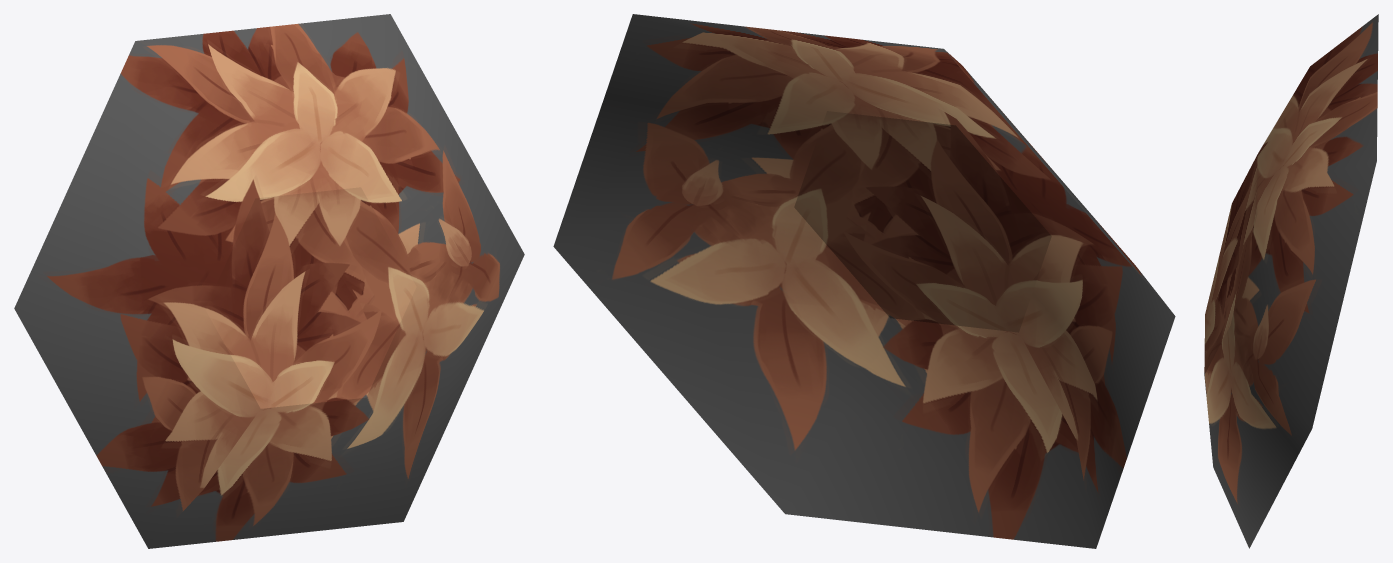
The model's file is Leaves1.fbx.
The picture shows the model from 3 angles, left to right: view 1: azimuth 30°, elevation 25°; view 2: azimuth 150°, elevation 25°; view 3: azimuth 270°, elevation 25°; orthographic projection. The views are drawn at different scales.
Parts seen in each view (by area): view 1: Leaves1; view 2: Leaves1; view 3: Leaves1.
Part boxes in pixels (x1,y1,x2,y2): Leaves1: (14,14,524,548); Leaves1: (553,14,1175,548); Leaves1: (1204,14,1378,548).
Size of the model in its own units: 1936 by 1740 by 618.
1 material, 1 textured.
